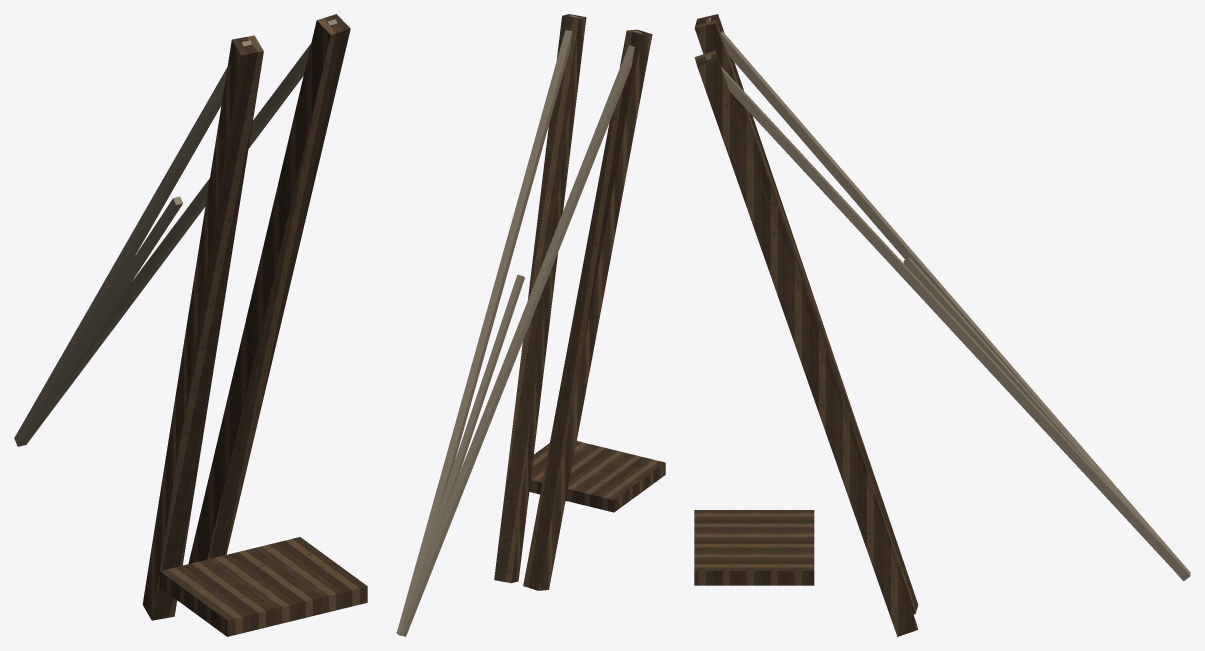
File: B_sheerlegs.glb
3 views of the same model, side by side, from view 1: azimuth 30°, elevation 25°; view 2: azimuth 150°, elevation 25°; view 3: azimuth 270°, elevation 25° (orthographic). The views are drawn at different scales.
Visible parts, largest first — view 1: B_sheerlegs; view 2: B_sheerlegs; view 3: B_sheerlegs.
Part boxes in pixels (x1,y1,x2,y2): B_sheerlegs: [14, 14, 367, 636]; B_sheerlegs: [396, 14, 665, 636]; B_sheerlegs: [694, 14, 1190, 636].
Bounding box in the file's own units: 3.6 × 16.17 × 12.39.
2 materials, 1 textured.
